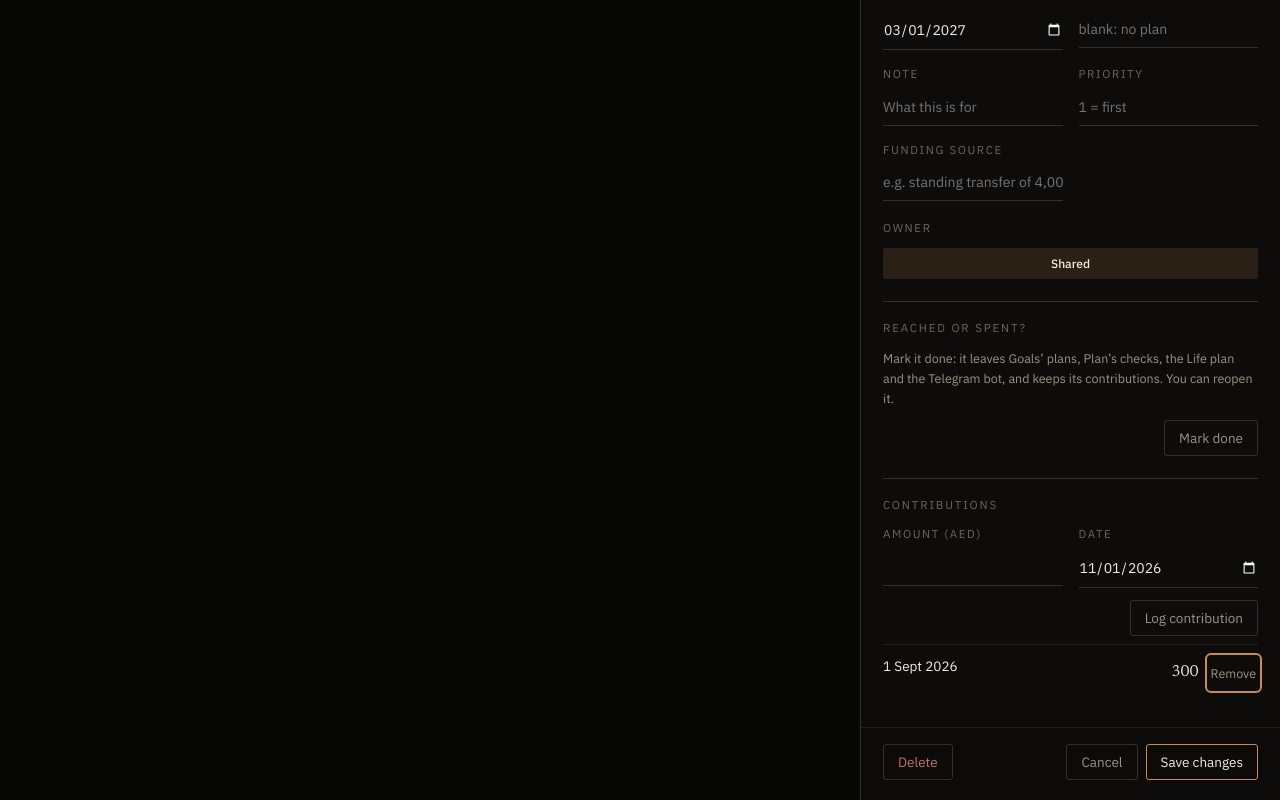
Test: GoalEditor: nothing typed is lost or sent twice › Escape steps back out of a pending remove before it closes anything, and focus stays on the Remove button
(page scrolled)
Click the button with aria-label "Remove the contribution of 300".
click(1233, 673)  # box [1209, 657, 1258, 689]
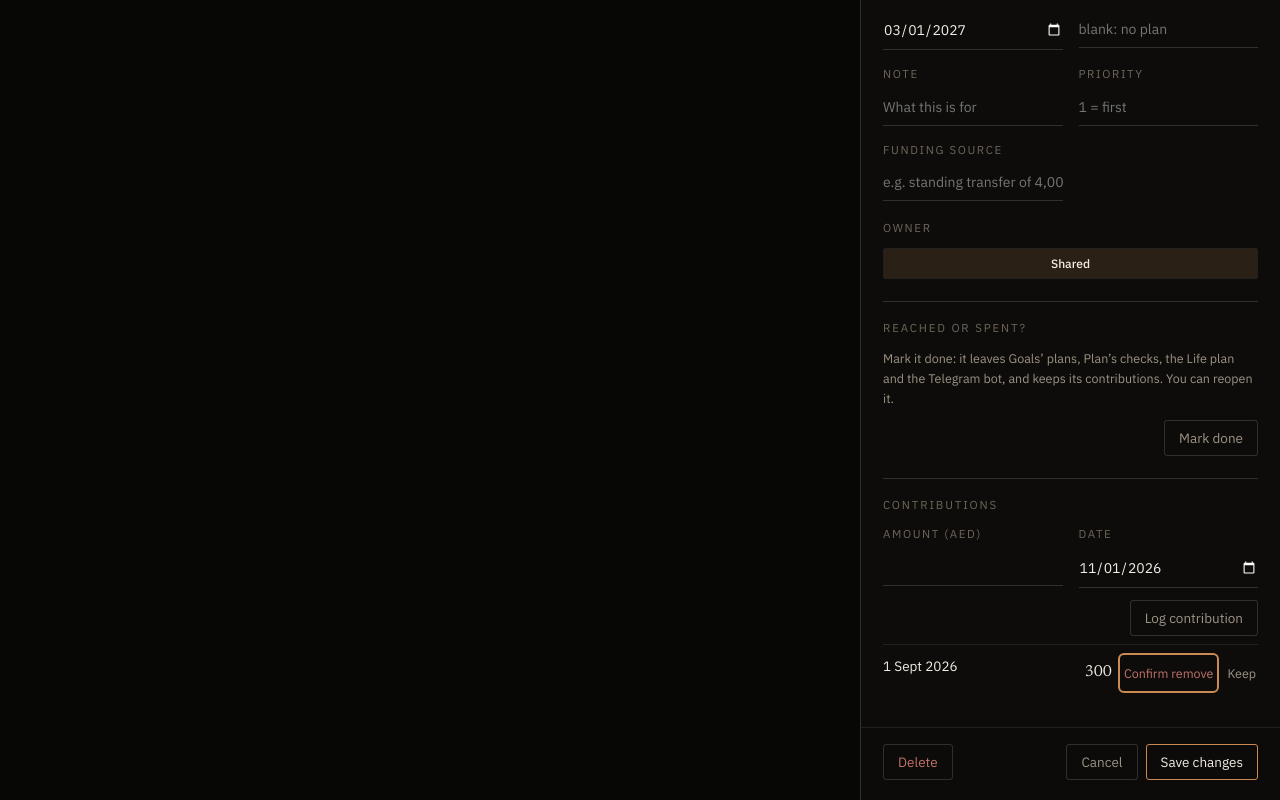
Now the button named "Remove the contribution of 300" reads "Confirm remove", box [1122, 657, 1215, 689]
Press Escape
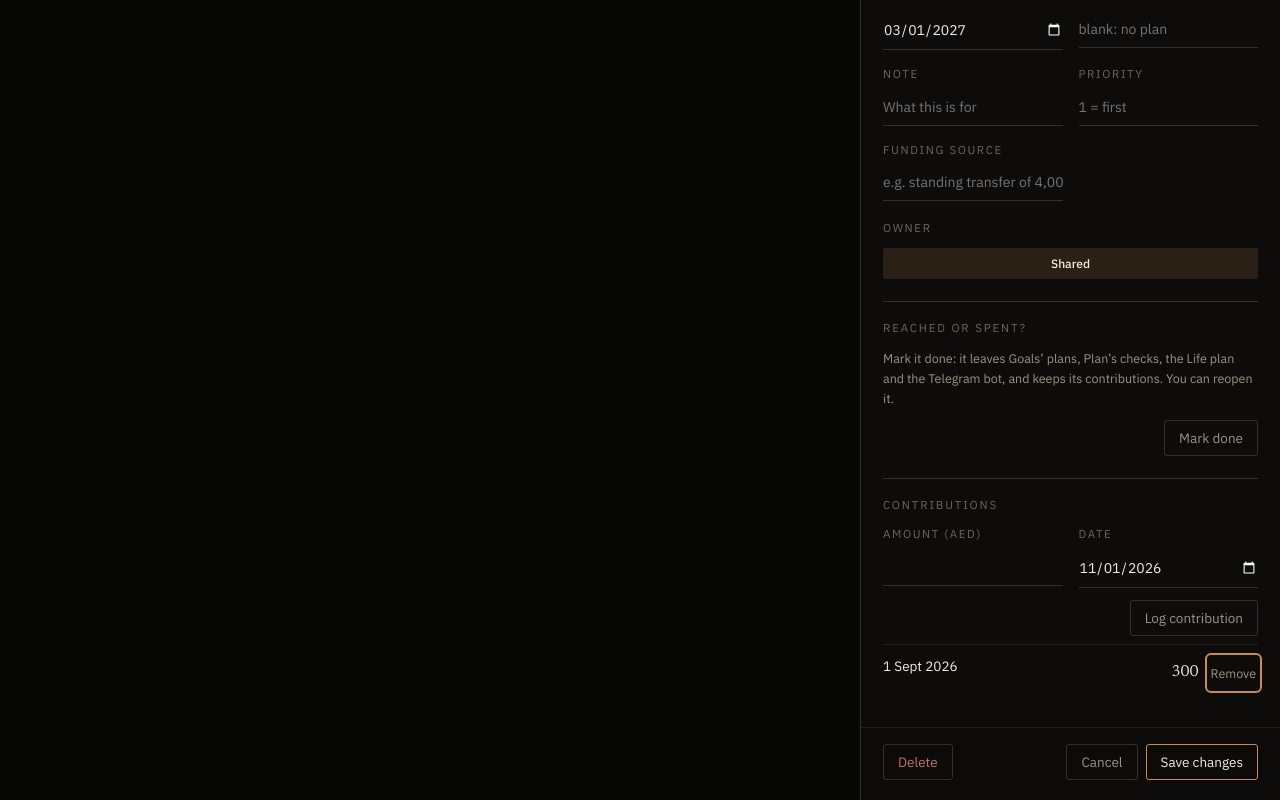
Now the button with aria-label "Remove the contribution of 300" reads "Remove", box [1209, 657, 1258, 689]
